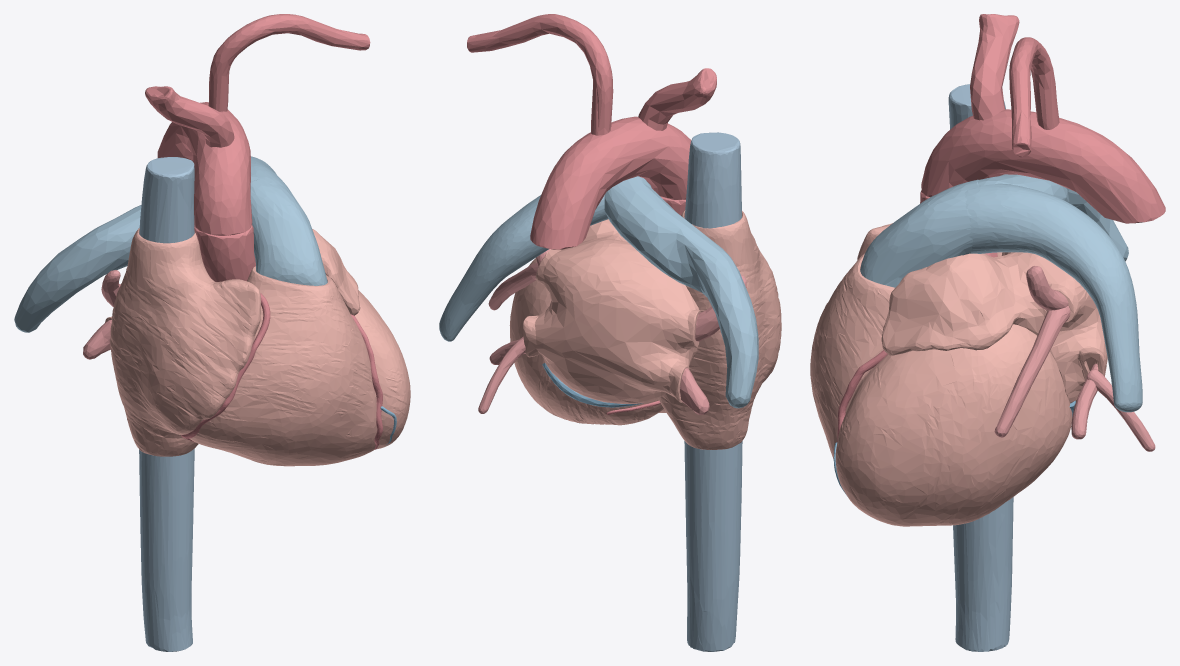
Rendered from anatomical-heart.glb.
The picture shows the model from 3 angles, left to right: view 1: azimuth 30°, elevation 25°; view 2: azimuth 150°, elevation 25°; view 3: azimuth 270°, elevation 25°; orthographic projection. The views are drawn at different scales.
Visible parts, largest first — view 1: Heart body — FJ2428, Heart body — FJ2439, Inferior vena cava — FJ3441, Aorta — FJ3411, Right pulmonary artery — FJ3019, Pulmonary trunk — FJ2966, Superior vena cava — FJ3645, Aorta — FJ3479, Aorta — FJ3417, Aorta — FJ3413, Heart body — FJ2438, Coronary arteries — FJ2723 (+2 smaller); view 2: Heart body — FJ2438, Right pulmonary artery — FJ3019, Aorta — FJ3411, Inferior vena cava — FJ3441, Heart body — FJ2439, Left pulmonary artery — FJ2924, Superior vena cava — FJ3645, Heart body — FJ2428, Aorta — FJ3479, Aorta — FJ3417, Left pulmonary veins — FJ2944, Left pulmonary veins — FJ2933 (+3 smaller); view 3: Heart body — FJ2428, Heart body — FJ2438, Left pulmonary artery — FJ2924, Aorta — FJ3411, Inferior vena cava — FJ3441, Pulmonary trunk — FJ2966, Aorta — FJ3479, Aorta — FJ3417, Left pulmonary veins — FJ2933, Right pulmonary artery — FJ3019, Left pulmonary veins — FJ2944, Left pulmonary veins — FJ2925 (+3 smaller).
Part boxes in pixels (x1,y1,x2,y2): Heart body — FJ2428: (189,266,410,466); Heart body — FJ2439: (110,228,260,456); Inferior vena cava — FJ3441: (139,449,194,651); Aorta — FJ3411: (157,102,252,235); Right pulmonary artery — FJ3019: (14,173,258,332); Pulmonary trunk — FJ2966: (250,179,327,285); Superior vena cava — FJ3645: (139,157,194,243); Aorta — FJ3479: (208,14,370,111); Aorta — FJ3417: (145,86,234,147); Aorta — FJ3413: (194,225,255,281); Heart body — FJ2438: (105,229,360,322); Coronary arteries — FJ2723: (181,293,270,442); Heart body — FJ2438: (522,219,700,403); Right pulmonary artery — FJ3019: (604,176,758,408); Aorta — FJ3411: (530,116,691,249); Inferior vena cava — FJ3441: (684,441,742,651); Heart body — FJ2439: (658,210,781,449); Left pulmonary artery — FJ2924: (439,195,608,341); Superior vena cava — FJ3645: (684,132,741,228); Heart body — FJ2428: (509,258,666,425); Aorta — FJ3479: (467,14,613,135); Aorta — FJ3417: (638,68,716,130); Left pulmonary veins — FJ2944: (478,336,525,413); Left pulmonary veins — FJ2933: (488,262,538,310); Heart body — FJ2428: (810,253,1072,526); Heart body — FJ2438: (881,252,1107,403); Left pulmonary artery — FJ2924: (964,183,1142,412); Aorta — FJ3411: (921,109,1165,223); Inferior vena cava — FJ3441: (953,497,1013,651); Pulmonary trunk — FJ2966: (860,179,978,287); Aorta — FJ3479: (1009,37,1059,157); Aorta — FJ3417: (970,14,1019,120); Left pulmonary veins — FJ2933: (994,306,1070,437); Right pulmonary artery — FJ3019: (978,174,1128,261); Left pulmonary veins — FJ2944: (1086,369,1155,451); Left pulmonary veins — FJ2925: (1026,266,1068,310).
Size of the model in its own units: 1.45 by 2.61 by 1.27.
